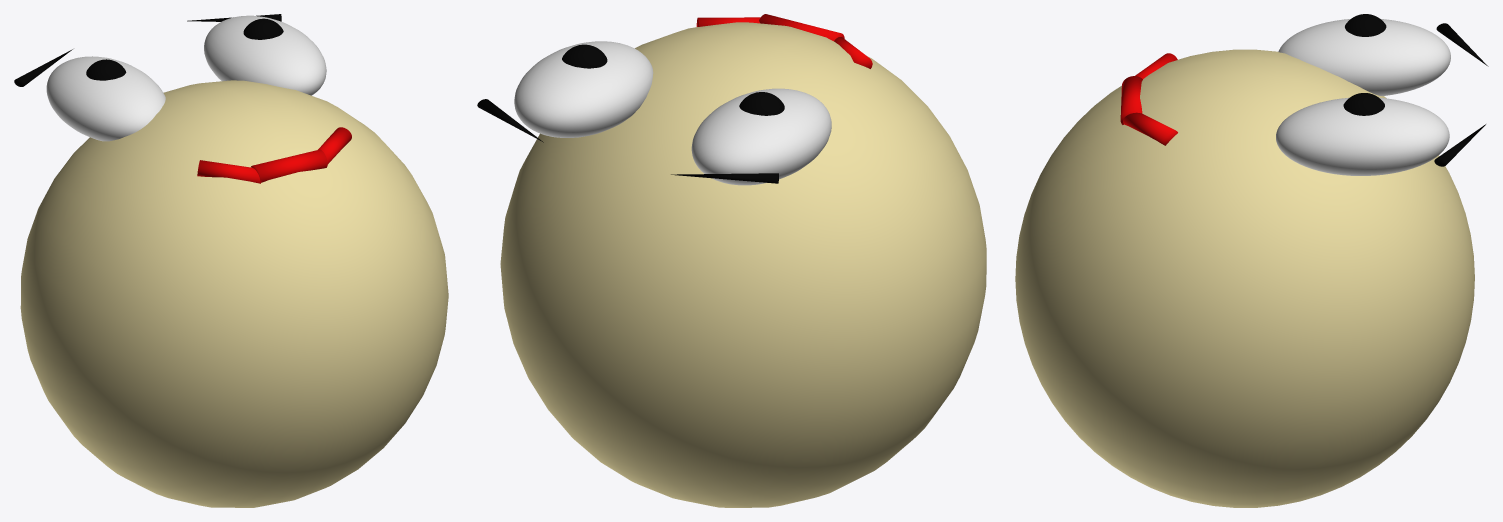
The picture shows the model from 3 angles, left to right: view 1: azimuth 30°, elevation 25°; view 2: azimuth 150°, elevation 25°; view 3: azimuth 270°, elevation 25°; orthographic projection. The views are drawn at different scales.
Parts seen in each view (by area): view 1: Sphere; view 2: Sphere; view 3: Sphere.
Part boxes in pixels (x1,y1,x2,y2): Sphere: [14, 14, 448, 507]; Sphere: [477, 14, 986, 507]; Sphere: [1015, 14, 1488, 507].
Size of the model in its own units: 0.3172 by 0.3327 by 0.3276.
